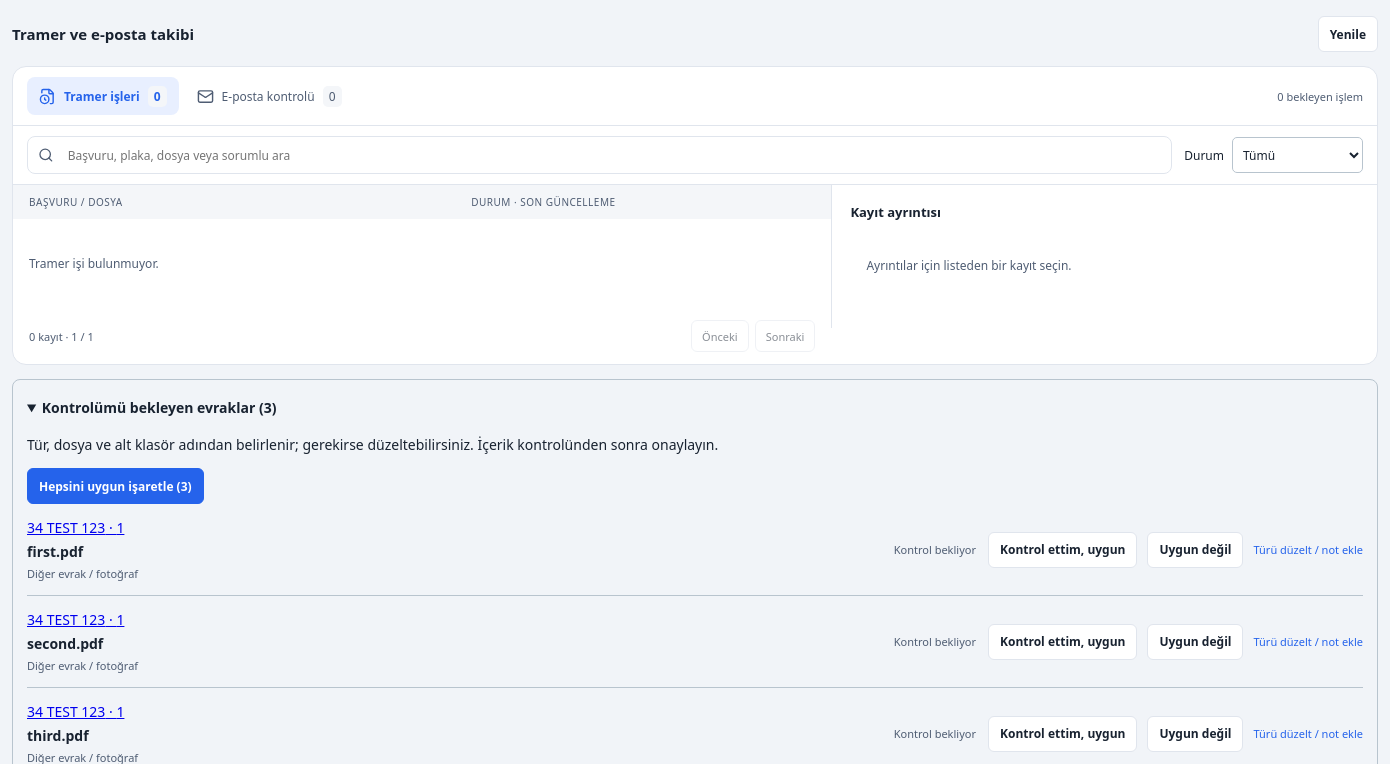
Test case: tracking screens › stops on a failed review, refreshes partial results and retries only the remaining pending documents
Click the button "Hepsini uygun işaretle (3)".
click(115, 486)  # box top-left (27, 468), bottom-right (204, 504)
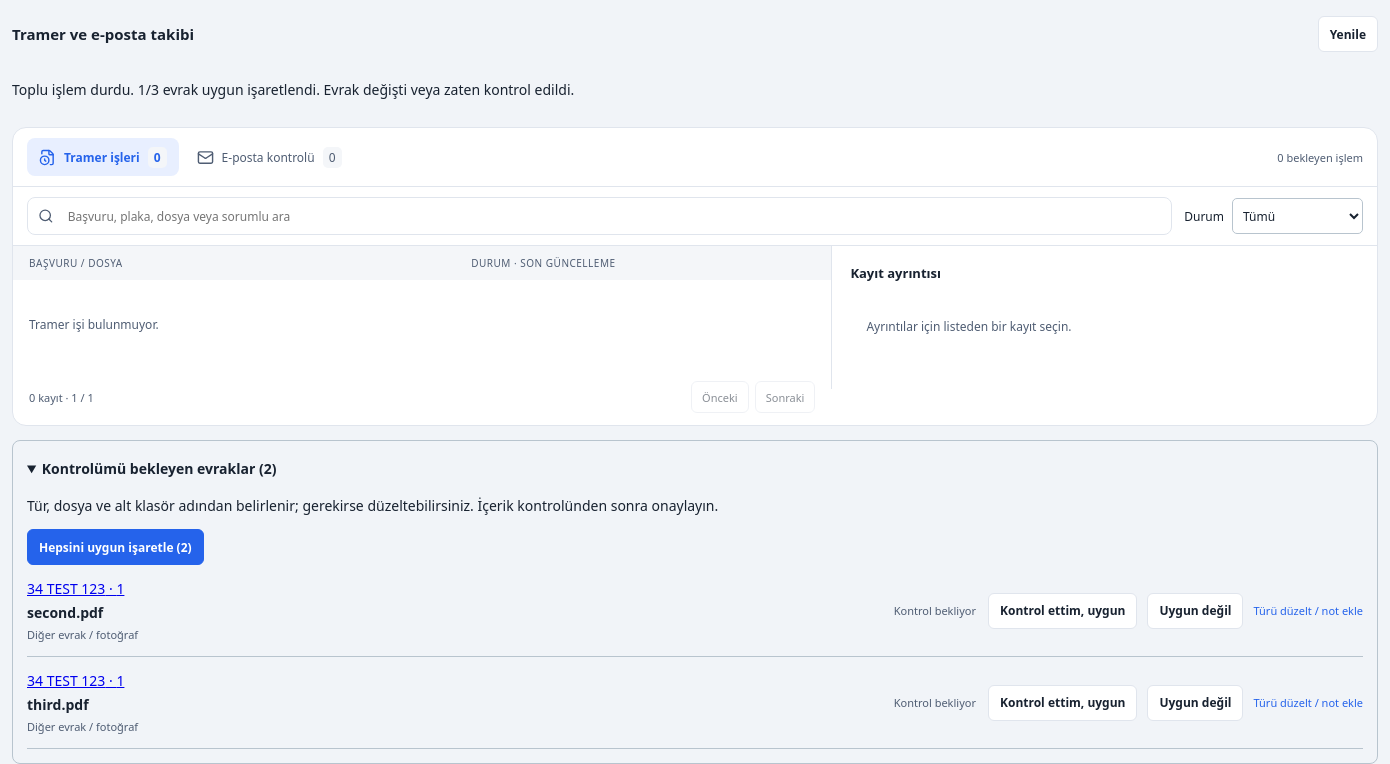
Check: the message shows "Toplu işlem durdu. 1/3 evrak uygun işaretlendi. Evrak değişti veya zaten kontrol edildi.", box top-left (12, 80), bottom-right (574, 99)
Check: the text "first.pdf" is gone
Click the button "Hepsini uygun işaretle (2)".
click(115, 547)  # box top-left (27, 529), bottom-right (204, 565)
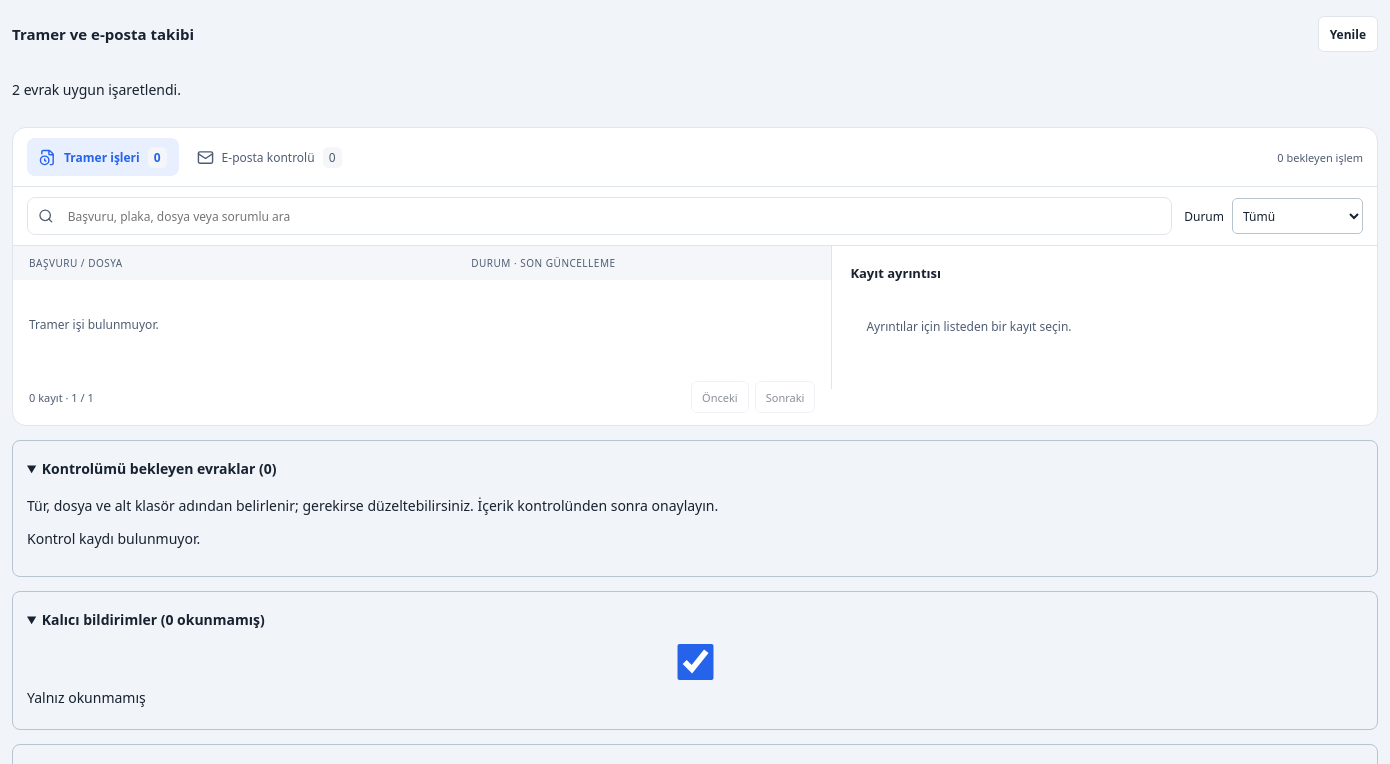
Check: the text "2 evrak uygun işaretlendi." is shown, box top-left (12, 80), bottom-right (181, 99)
